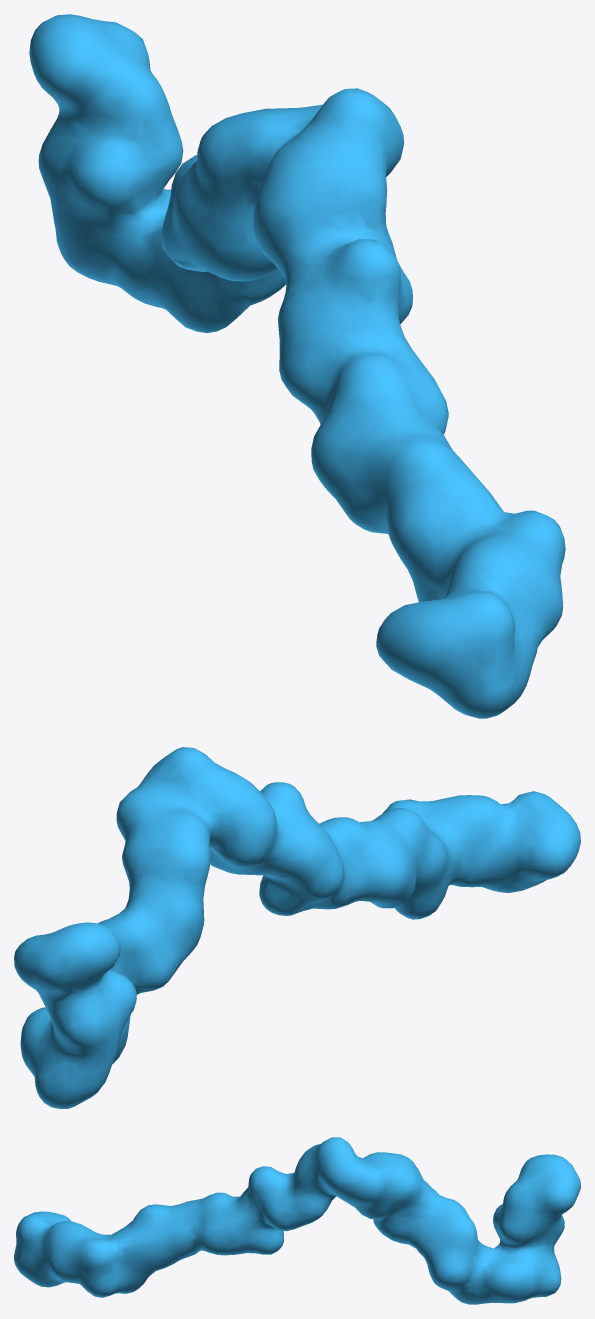
The model's file is Heparin.fbx.
3 views of the same model, one above another, from view 1: azimuth 30°, elevation 25°; view 2: azimuth 150°, elevation 25°; view 3: azimuth 270°, elevation 25° (orthographic). The views are drawn at different scales.
Visible parts, largest first — view 1: CoarseMS_3irl; view 2: CoarseMS_3irl; view 3: CoarseMS_3irl.
Part boxes in pixels (box(x1,y1,x2,y2)): CoarseMS_3irl: box(29, 14, 565, 718); CoarseMS_3irl: box(14, 747, 580, 1108); CoarseMS_3irl: box(14, 1137, 580, 1304).
Bounding box in the file's own units: 36.12 × 40.91 × 115.
